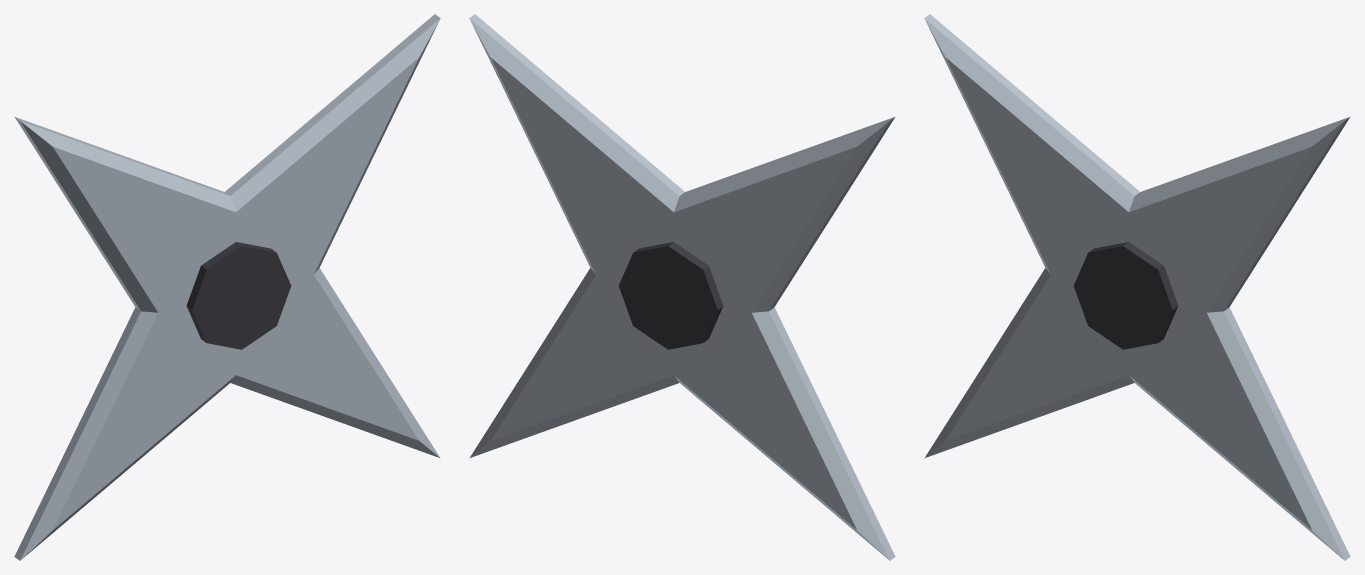
Rendered from Shuriken.fbx.
The picture shows the model from 3 angles, left to right: view 1: azimuth 30°, elevation 25°; view 2: azimuth 150°, elevation 25°; view 3: azimuth 330°, elevation 25°; orthographic projection.
Parts seen in each view (by area): view 1: Shuriken; view 2: Shuriken; view 3: Shuriken.
Part boxes in pixels (x1,y1,x2,y2): Shuriken: (14, 14, 440, 560); Shuriken: (469, 14, 895, 560); Shuriken: (924, 14, 1350, 560).
Bounding box in the file's own units: 0.8485 × 0.8485 × 0.1.
Materials: 1 (1 with a texture image).
